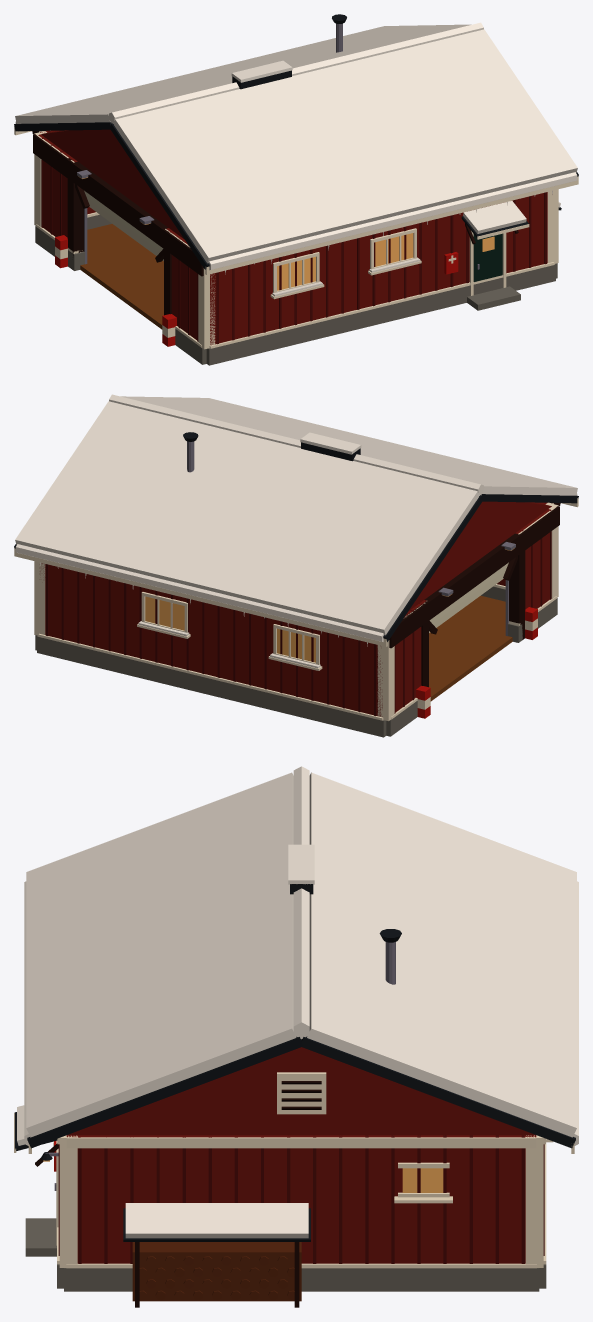
File: rs_garage.glb
3 renders of one model, top to bottom at view 1: azimuth 30°, elevation 25°; view 2: azimuth 150°, elevation 25°; view 3: azimuth 270°, elevation 25°, orthographic. The views are drawn at different scales.
Parts seen in each view (by area): view 1: roof, wall_s, front, floor, wall_e; view 2: roof, wall_n, front, floor, wall_e; view 3: roof, wall_e, wall_s, wall_n.
Boxes of the visible parts, x1=… form: roof: x1=14, y1=14, x2=578, y2=274; wall_s: x1=206, y1=192, x2=555, y2=365; front: x1=33, y1=131, x2=215, y2=364; floor: x1=80, y1=224, x2=163, y2=329; wall_e: x1=547, y1=189, x2=561, y2=278; roof: x1=14, y1=394, x2=578, y2=646; wall_n: x1=37, y1=563, x2=386, y2=737; front: x1=377, y1=503, x2=559, y2=736; floor: x1=429, y1=595, x2=512, y2=701; wall_e: x1=34, y1=561, x2=45, y2=650; roof: x1=24, y1=766, x2=578, y2=1153; wall_e: x1=59, y1=1135, x2=543, y2=1307; wall_s: x1=14, y1=1105, x2=63, y2=1288; wall_n: x1=539, y1=1138, x2=553, y2=1288.
Size of the model in its own units: 13.58 by 6.74 by 12.03.
